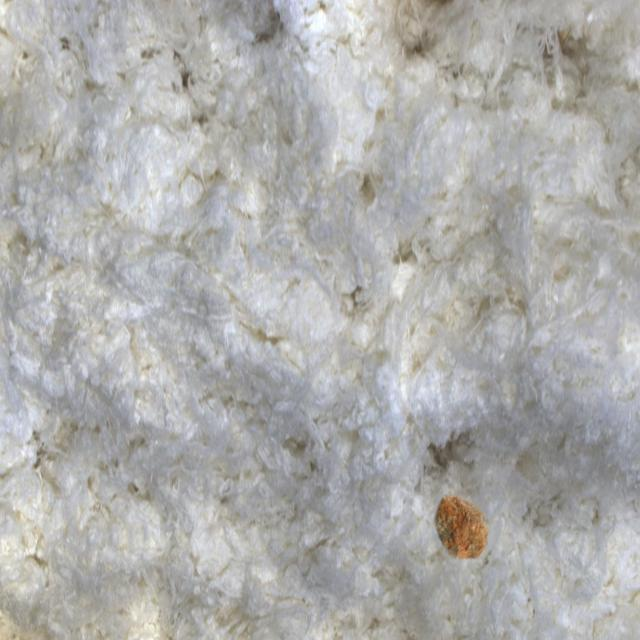dust: (412, 466, 520, 592)
